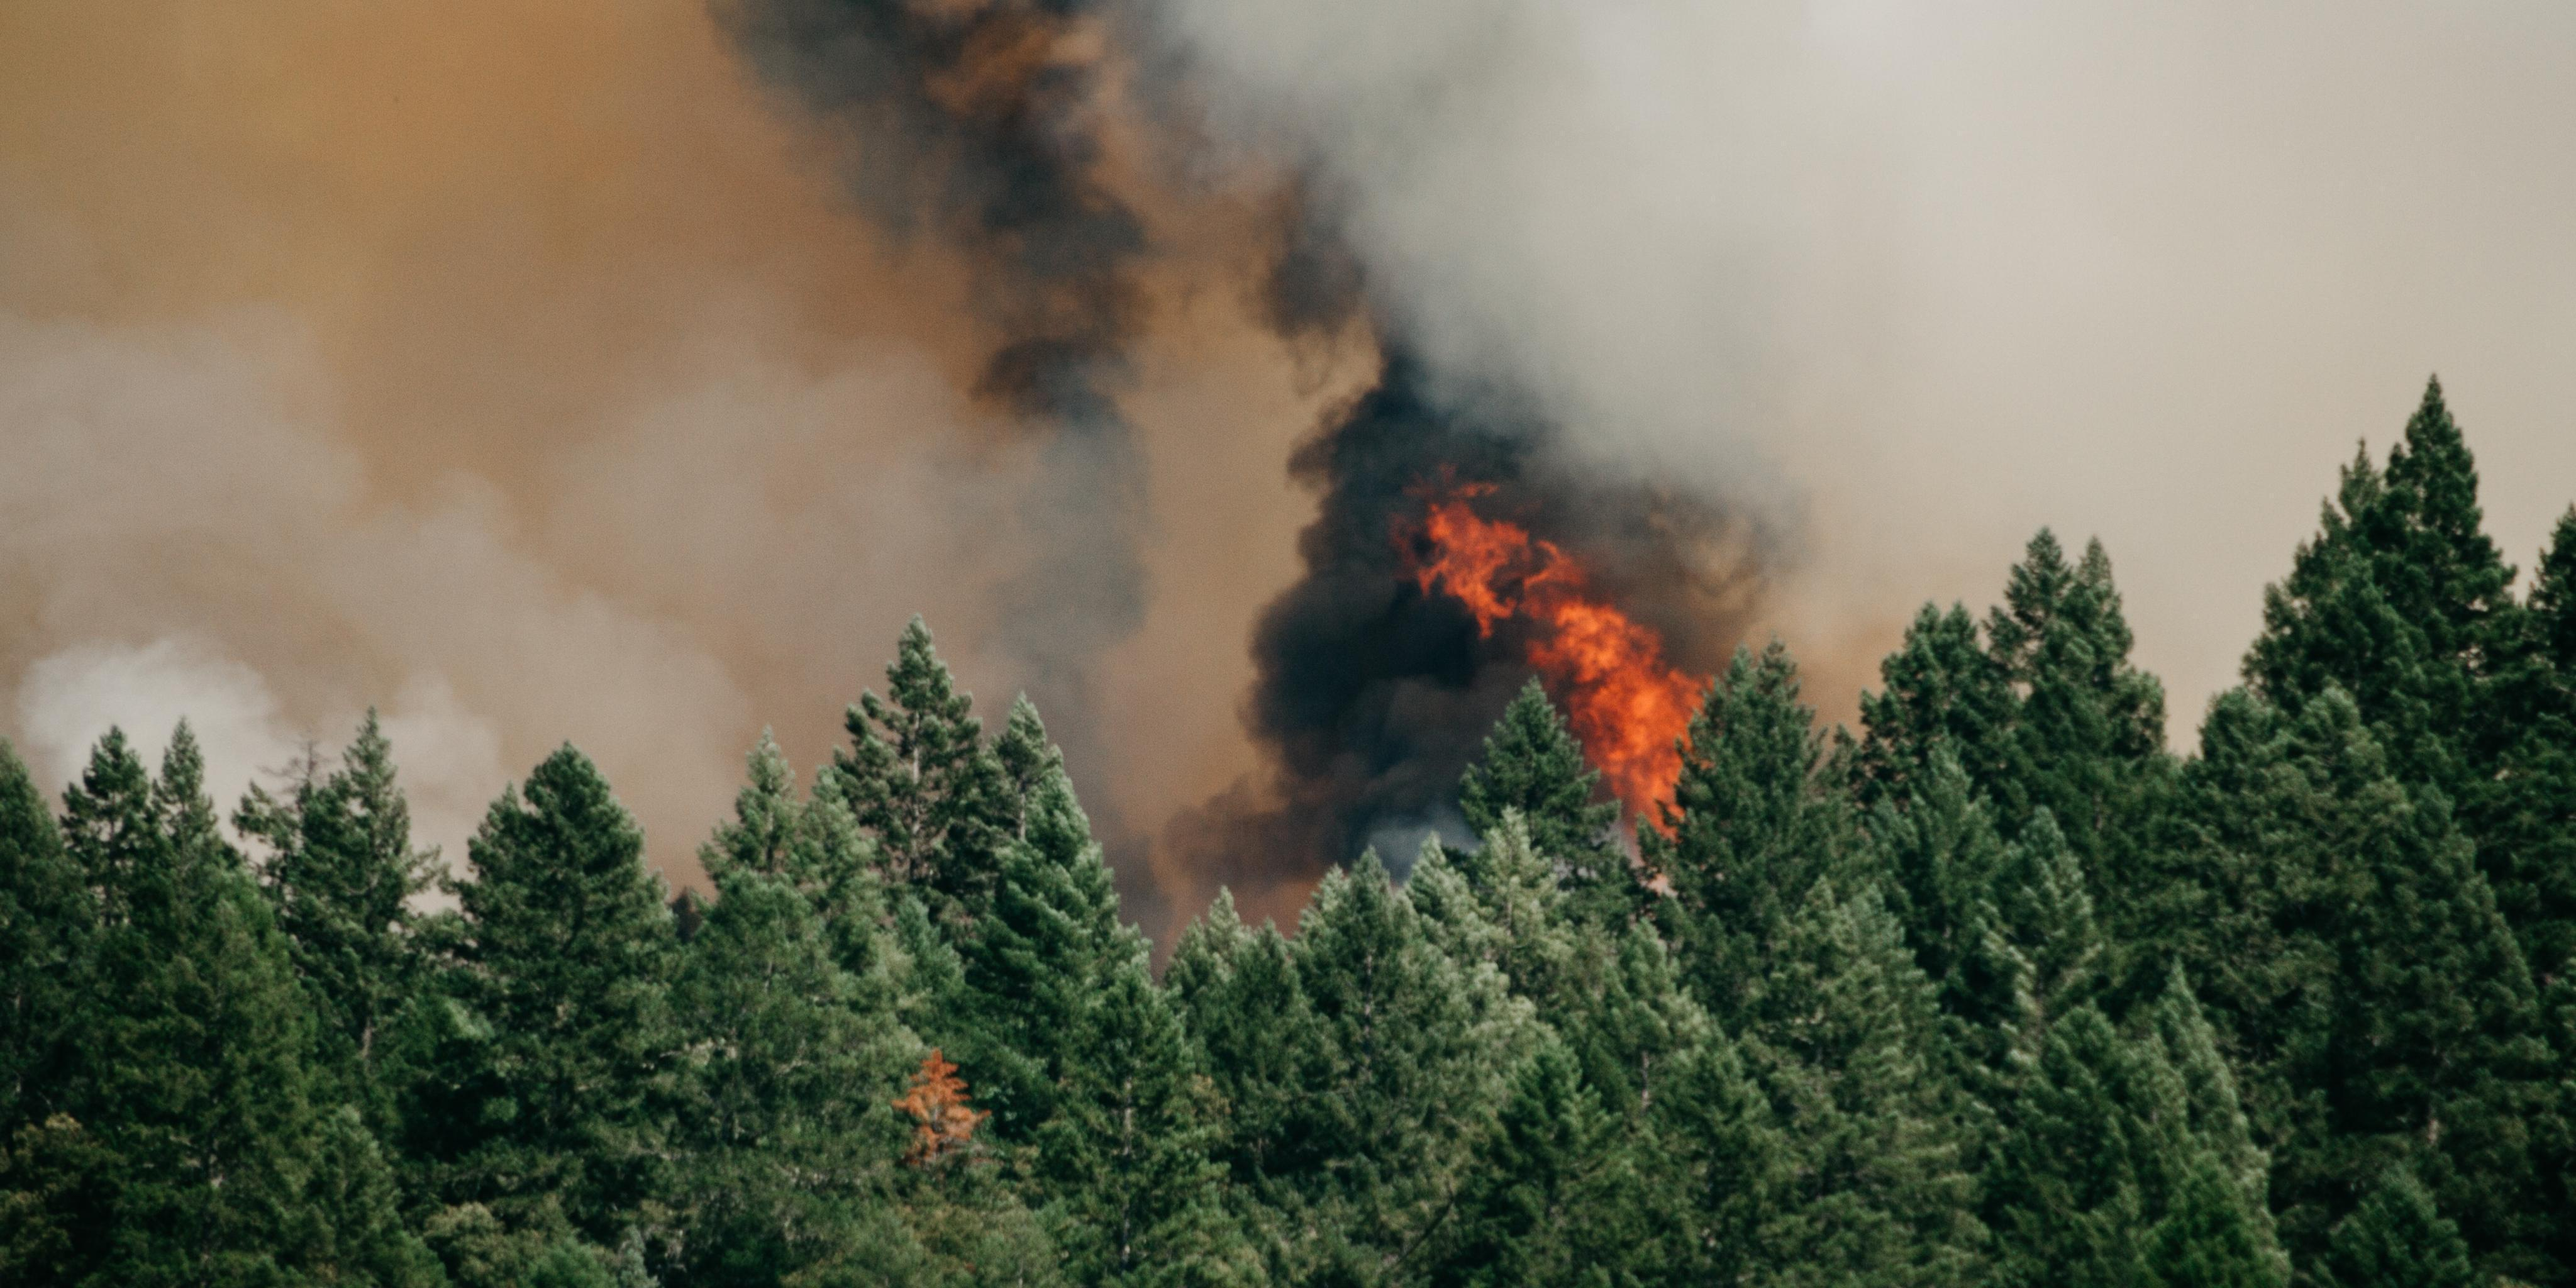fire: (1405, 471, 1730, 839)
